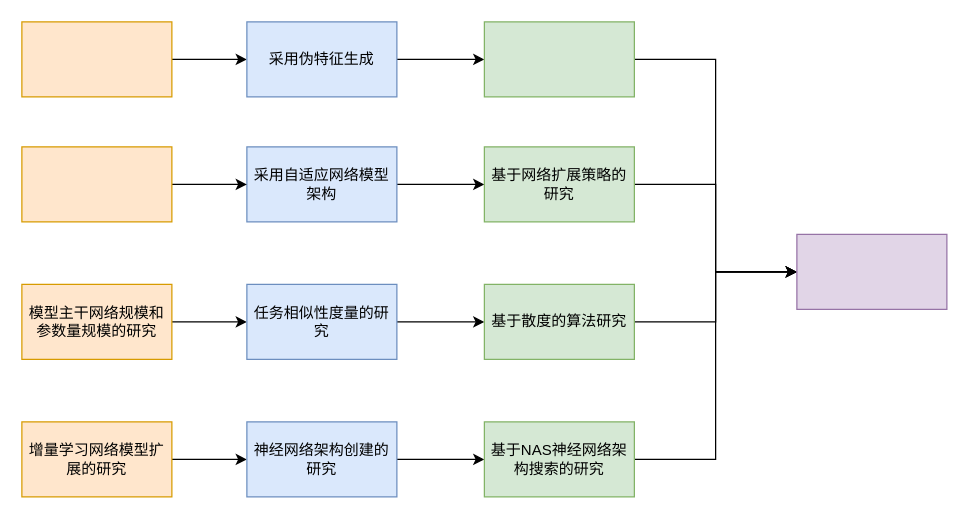
The diagram is 969 pixels wide and 519 high, and some of its shapes have lost their labels. The shapes that lost their labels are listed below. From the top down, each one's centre as x and y in pixels, then its label:
At point (96, 59): "针对数据回放的内存和隐私的解决办法".
At point (558, 59): "基于旧任务原型特征和新任务特征结合的伪特征生成方法研究".
At point (96, 184): "针对任务差异性大的问题的解决办法".
At point (871, 271): "解决增量学习灾难性遗忘的方法".
